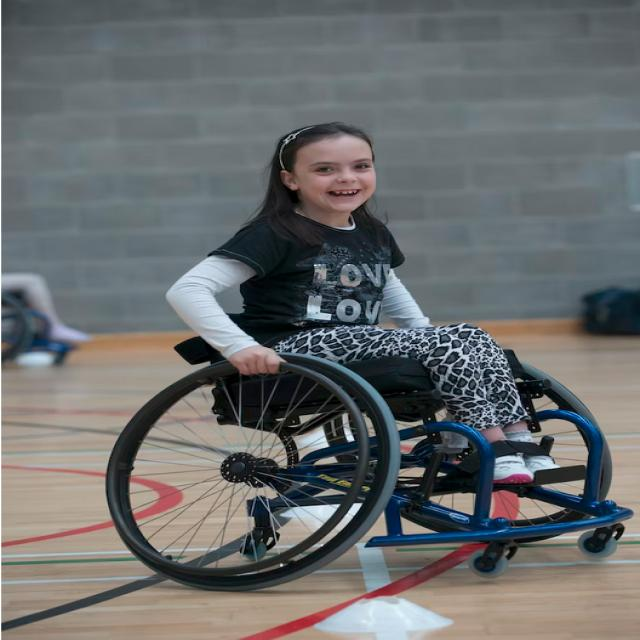wheelchairs: (112, 320, 626, 588)
